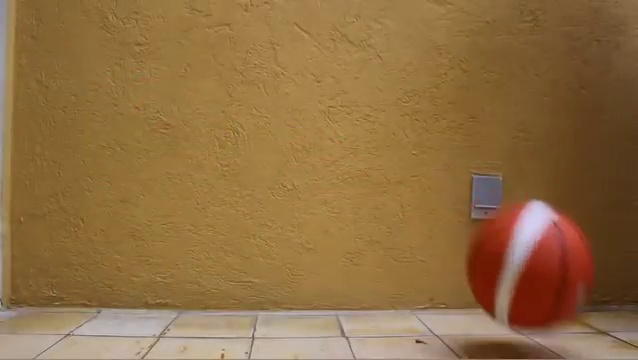ball: (463, 198, 598, 335)
